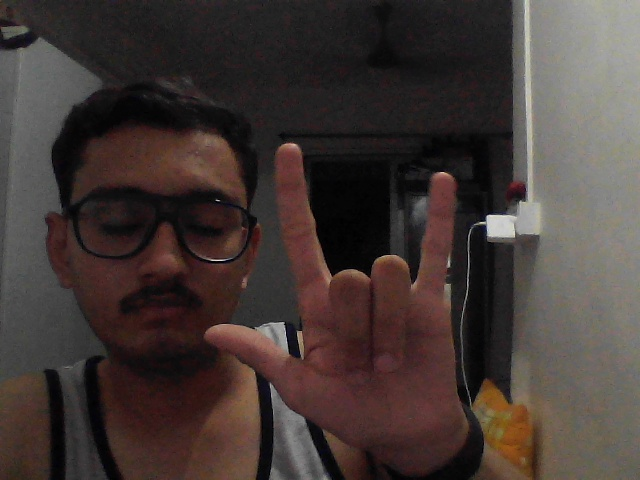I Love You: (221, 112, 486, 446)
